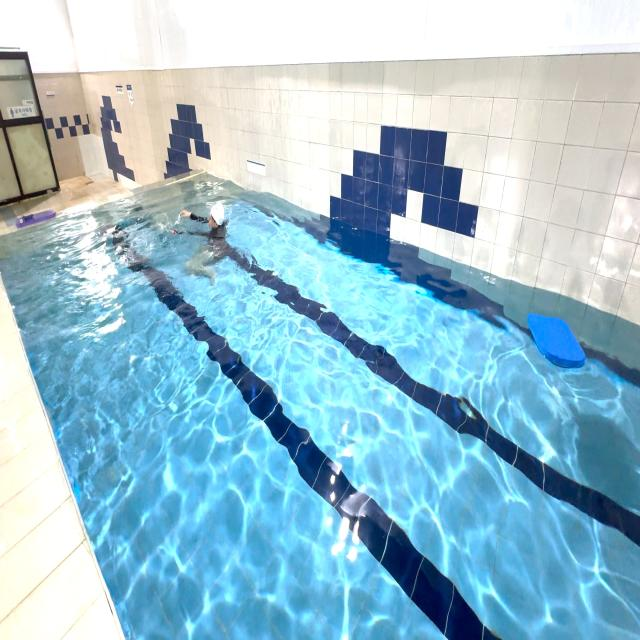Swimming: (157, 184, 256, 304)
